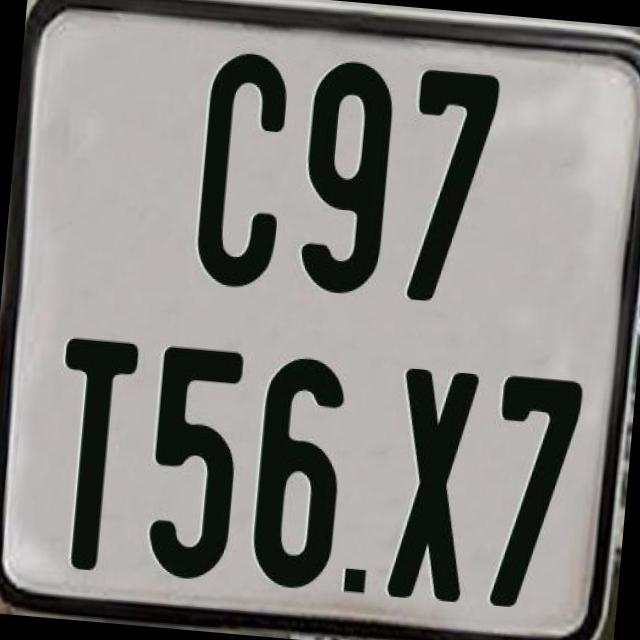5: (142, 342, 245, 581)
6: (246, 354, 346, 595)
7: (480, 369, 588, 612), (400, 69, 501, 314)
9: (296, 54, 400, 300)
C: (194, 48, 298, 288)
T: (46, 336, 140, 579)
X: (383, 364, 481, 606)
